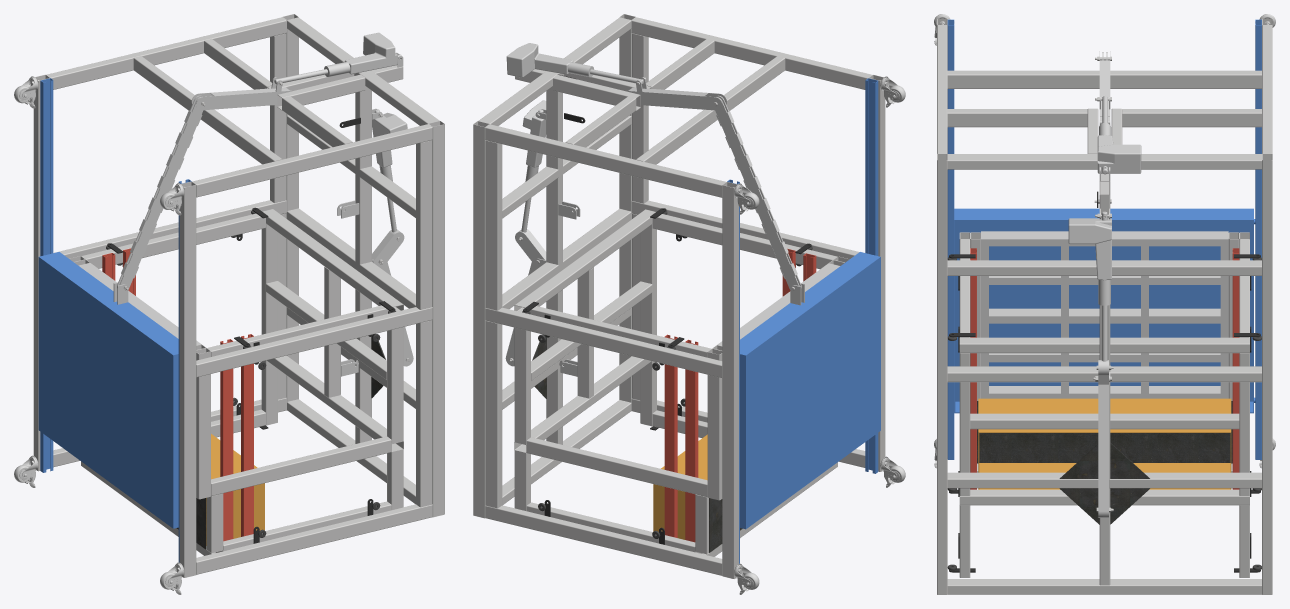
Rendered from MAQUINA_CORTE_ADOBE.glb.
3 views of the same model, side by side, from view 1: azimuth 30°, elevation 25°; view 2: azimuth 150°, elevation 25°; view 3: azimuth 270°, elevation 25° (orthographic). The views are drawn at different scales.
Parts seen in each view (by area): view 1: Solid1 (×49), Sólido1 (×2), Solid2; view 2: Solid1 (×47), Sólido1 (×2), Solid2; view 3: Solid1 (×39), Sólido1 (×2), Solid2.
Boxes of the visible parts, x1,y1,x2,y2 form: Solid1 (×49): (33,14,444,577); Sólido1 (×2): (324,32,407,181); Solid2: (191,87,292,110); Solid1 (×47): (473,14,885,578); Sólido1 (×2): (506,43,593,181); Solid2: (626,87,726,110); Solid1 (×39): (937,19,1272,594); Sólido1 (×2): (1068,122,1141,305); Solid2: (1099,51,1110,124).
Bounding box in the file's own units: 1.56 × 1.96 × 1.28.
8 materials, 1 textured.
